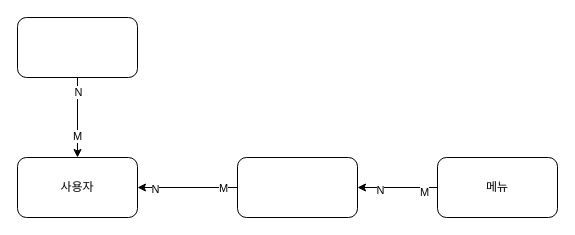
The diagram is 575 pixels wide and 235 high, and some of its shapes have lost their labels. The centre of each missing label's shape, as x and y in pixels:
권한: point (297, 187)
서비스: point (77, 47)
